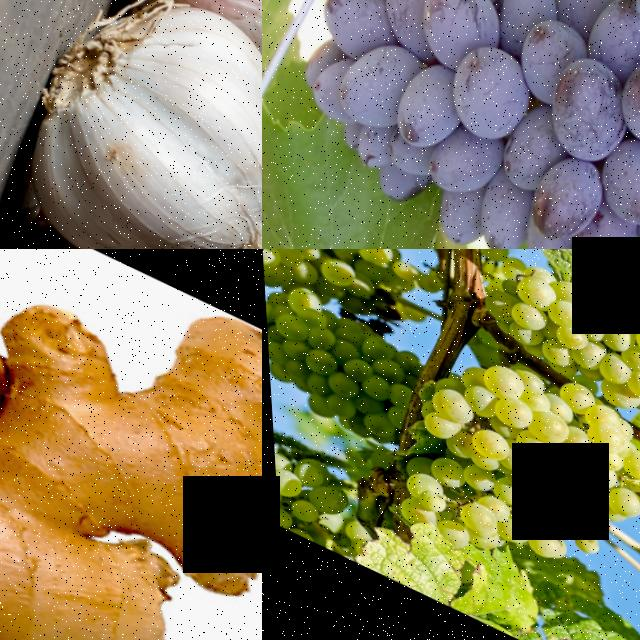garlic: (0, 0, 262, 249), (0, 195, 262, 249), (115, 0, 262, 92)
ginger: (0, 249, 262, 640)
grapes: (262, 0, 640, 249), (408, 330, 640, 558), (479, 249, 640, 498), (377, 434, 585, 594), (262, 267, 431, 449), (262, 249, 418, 333)
